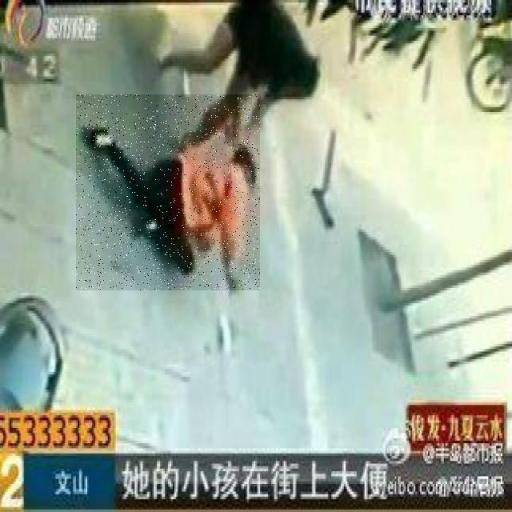Fall: (76, 95, 260, 291)
